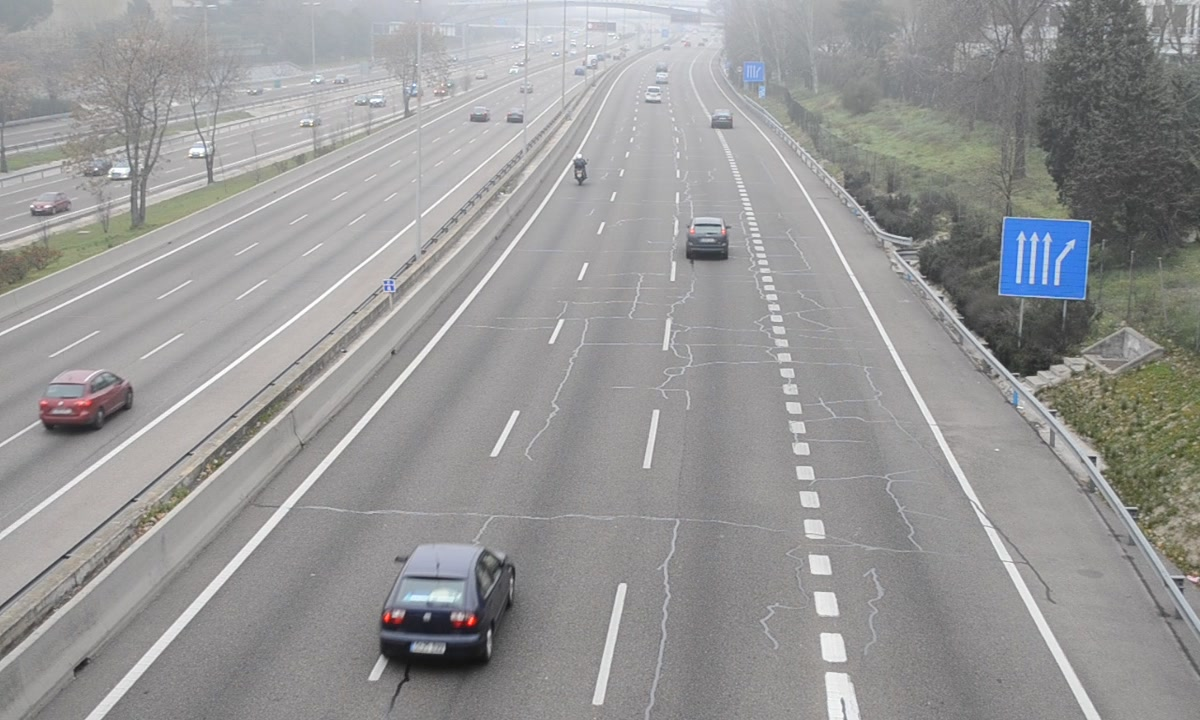car: (381, 544, 515, 667), (686, 217, 729, 261), (711, 110, 732, 130)
motorcycle: (572, 153, 589, 188)
